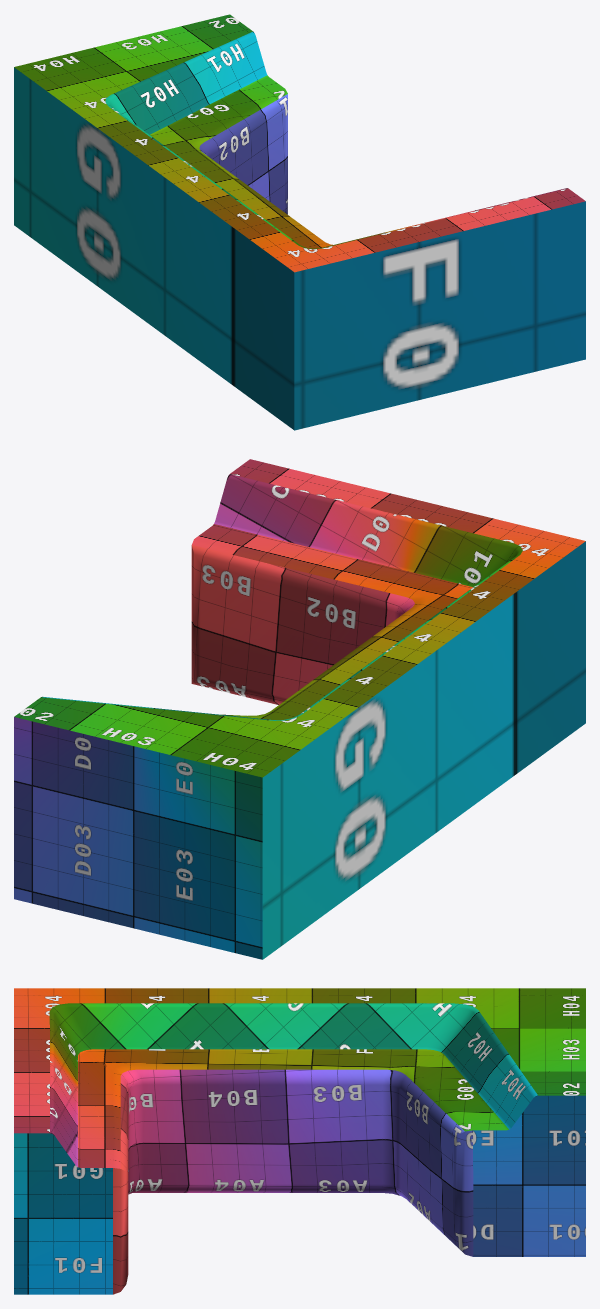
File: SecretRoomConsol1_low.fbx
The picture shows the model from 3 angles, top to bottom: view 1: azimuth 30°, elevation 25°; view 2: azimuth 150°, elevation 25°; view 3: azimuth 270°, elevation 25°; orthographic projection. The views are drawn at different scales.
Parts seen in each view (by area): view 1: SecretRoomConsol_low; view 2: SecretRoomConsol_low; view 3: SecretRoomConsol_low.
Boxes of the visible parts, <box> form: SecretRoomConsol_low: <box>14,14,585,430</box>; SecretRoomConsol_low: <box>14,459,585,959</box>; SecretRoomConsol_low: <box>14,988,585,1294</box>.
Size of the model in its own units: 270 by 140 by 450.
